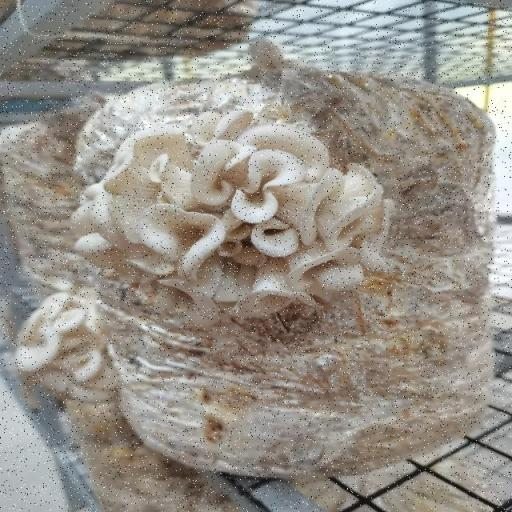White Oyster Mushroom: (45, 42, 430, 402)
